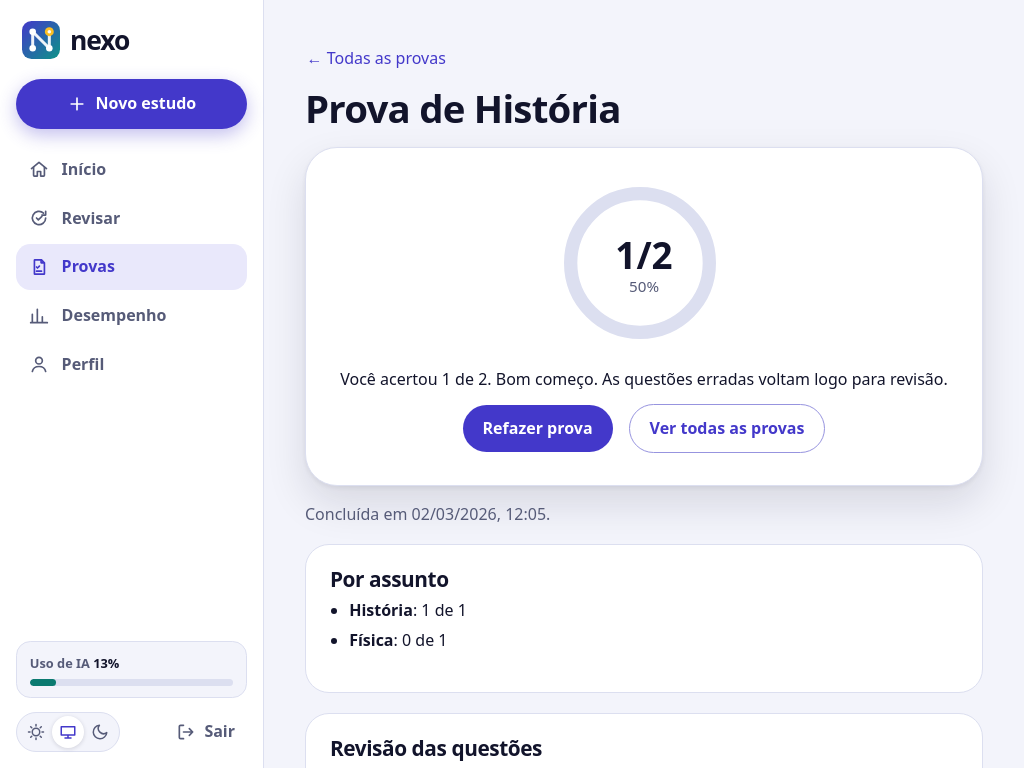
Test: resultado mostra a nota, o desempenho por assunto e a revisão; refazer abre a nova prova
This screenshot has width=1024, height=768.
Expected: the text "Você acertou 1 de 2. Bom começo. As questões erradas voltam logo para revisão." is shown, [330,367,958,392]
Click the button "Refazer prova" at (538, 429), box [463,405,613,452]
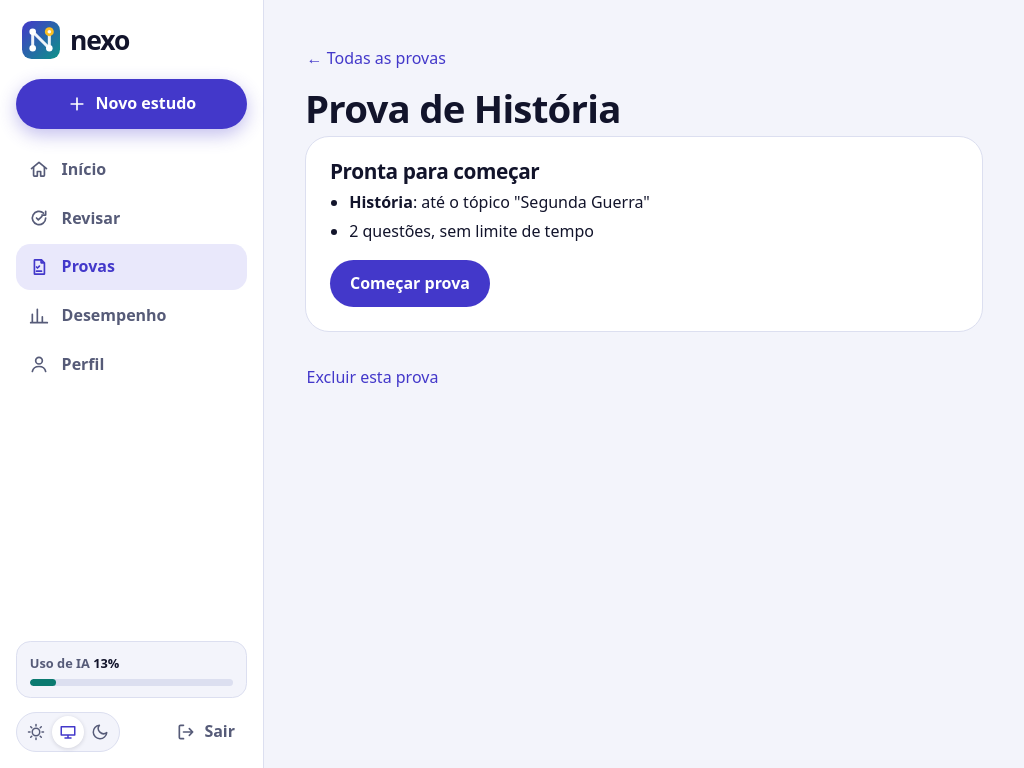
Expected: the heading "Pronta para começar" is shown, [330,156,539,184]
